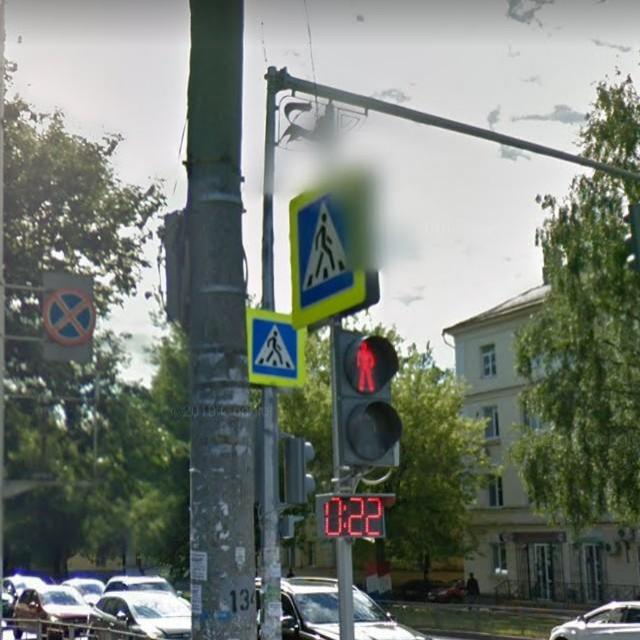Przejscie dla pieszych: (287, 162, 382, 332), (242, 304, 311, 394)
Zakaz zatrzymywania sie: (41, 284, 101, 349)
